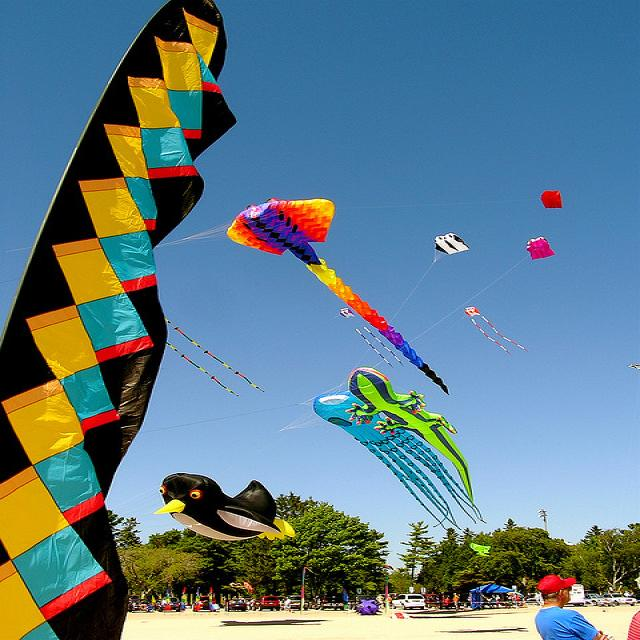Vehicle: (251, 594, 282, 612), (392, 594, 426, 610), (319, 592, 346, 611), (602, 593, 638, 606), (193, 596, 220, 612), (279, 595, 309, 609), (159, 596, 181, 612), (223, 599, 248, 612), (128, 599, 152, 612), (587, 596, 613, 605)
